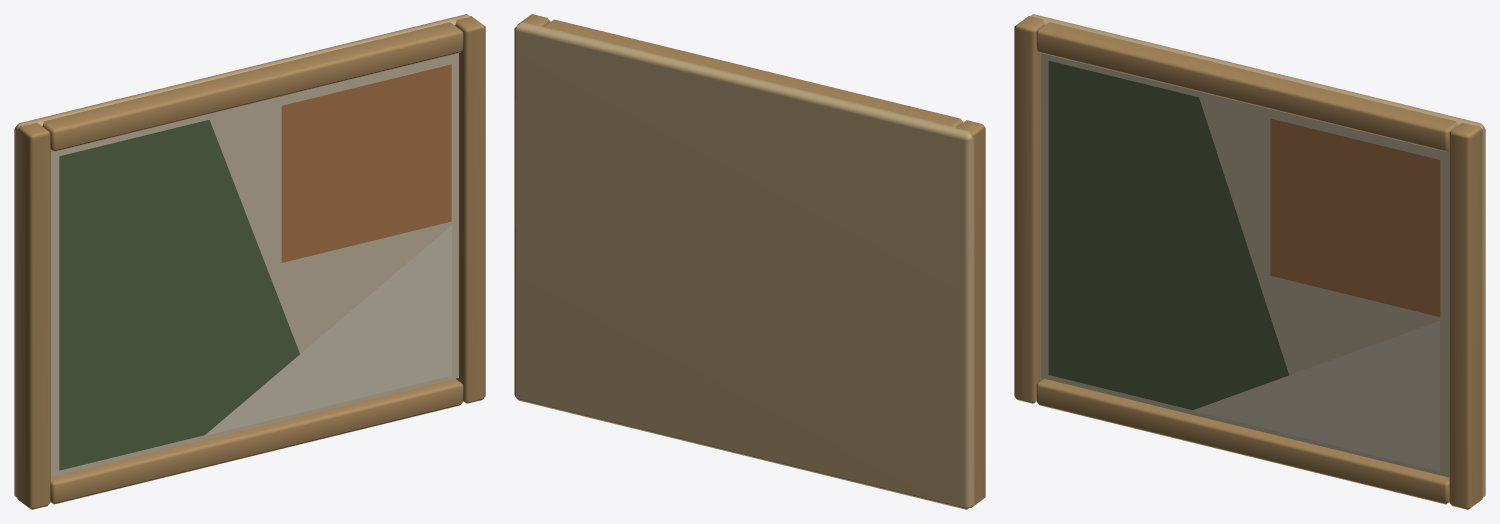
Rendered from abstract_frame_04.glb.
3 renders of one model, left to right at view 1: azimuth 30°, elevation 25°; view 2: azimuth 150°, elevation 25°; view 3: azimuth 330°, elevation 25°, orthographic.
Visible parts, largest first — view 1: Body; view 2: Body; view 3: Body.
Part boxes in pixels (<box>): Body: <box>14,14,485,509</box>; Body: <box>514,14,985,509</box>; Body: <box>1014,14,1485,509</box>.
Size of the model in its own units: 0.7 by 0.55 by 0.05.
